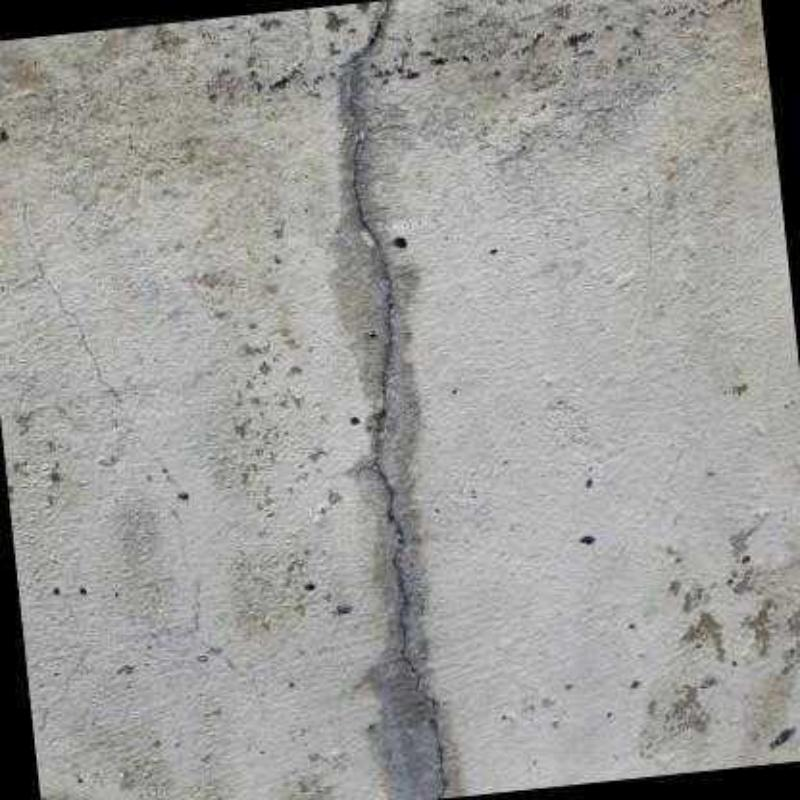crack: (342, 0, 449, 797), (21, 206, 121, 429), (190, 577, 244, 677)
